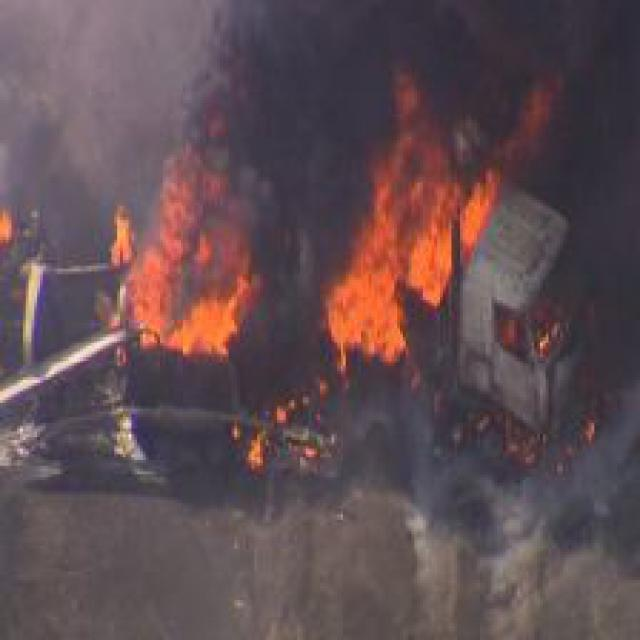fire: (314, 68, 523, 366), (109, 106, 274, 371)
